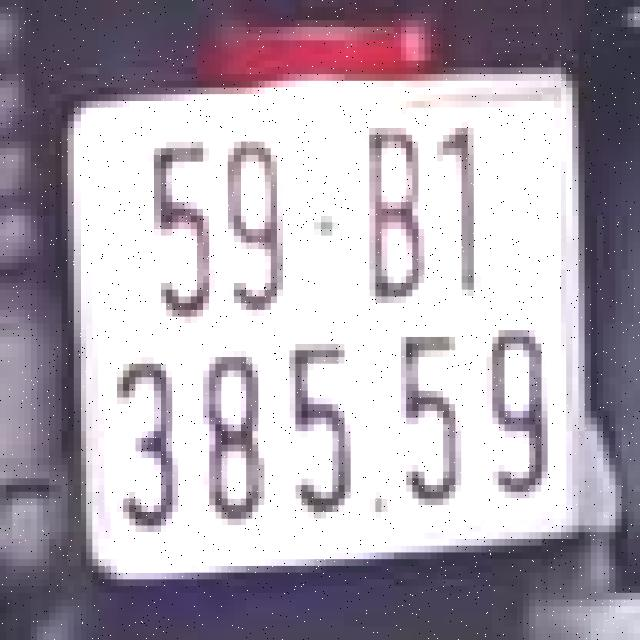1: (437, 105, 498, 306)
3: (108, 330, 169, 512)
5: (138, 125, 218, 320), (388, 320, 468, 509), (280, 327, 360, 515)
8: (197, 330, 277, 539)
9: (474, 303, 548, 519), (225, 122, 292, 324)
B: (357, 108, 431, 316)
